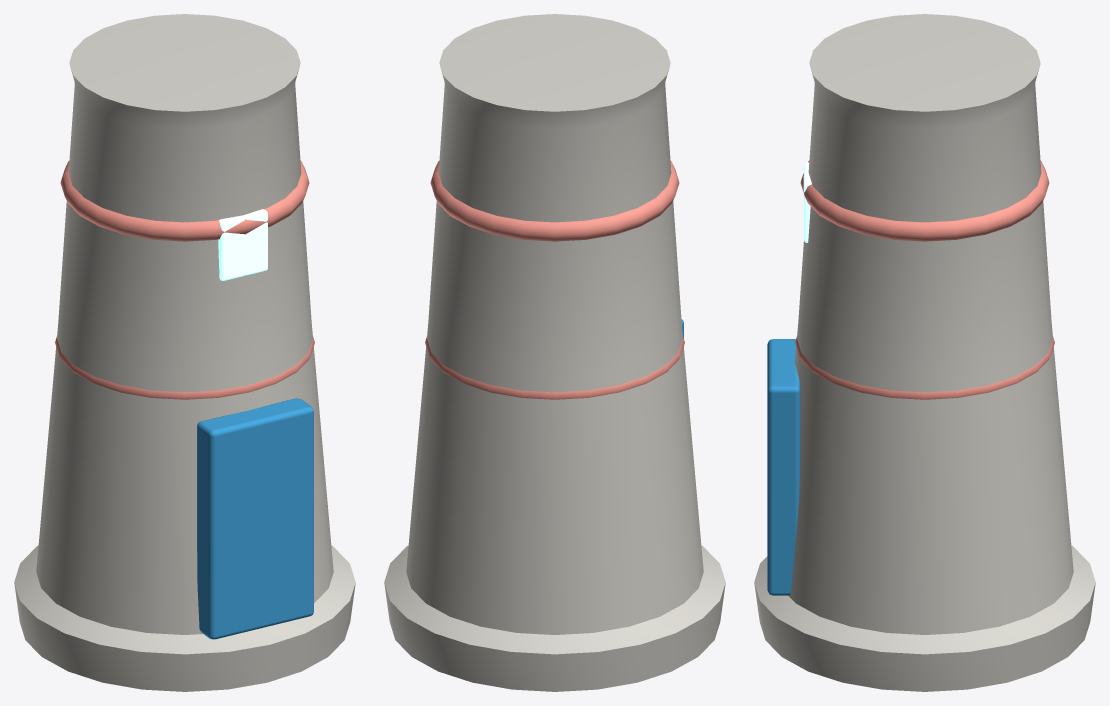
File: hero-shooter-harbour-payload-lighthouse-base-4b34d7bc__27705.glb
The picture shows the model from 3 angles, left to right: view 1: azimuth 30°, elevation 25°; view 2: azimuth 150°, elevation 25°; view 3: azimuth 270°, elevation 25°; orthographic projection.
Visible parts, largest first — view 1: lighthouse-base; view 2: lighthouse-base; view 3: lighthouse-base.
Boxes of the visible parts, x1,y1,x2,y2 form: lighthouse-base: (14,14,355,691); lighthouse-base: (384,14,725,691); lighthouse-base: (754,14,1095,691).
Bounding box in the file's own units: 3.1 × 5.62 × 3.1.
